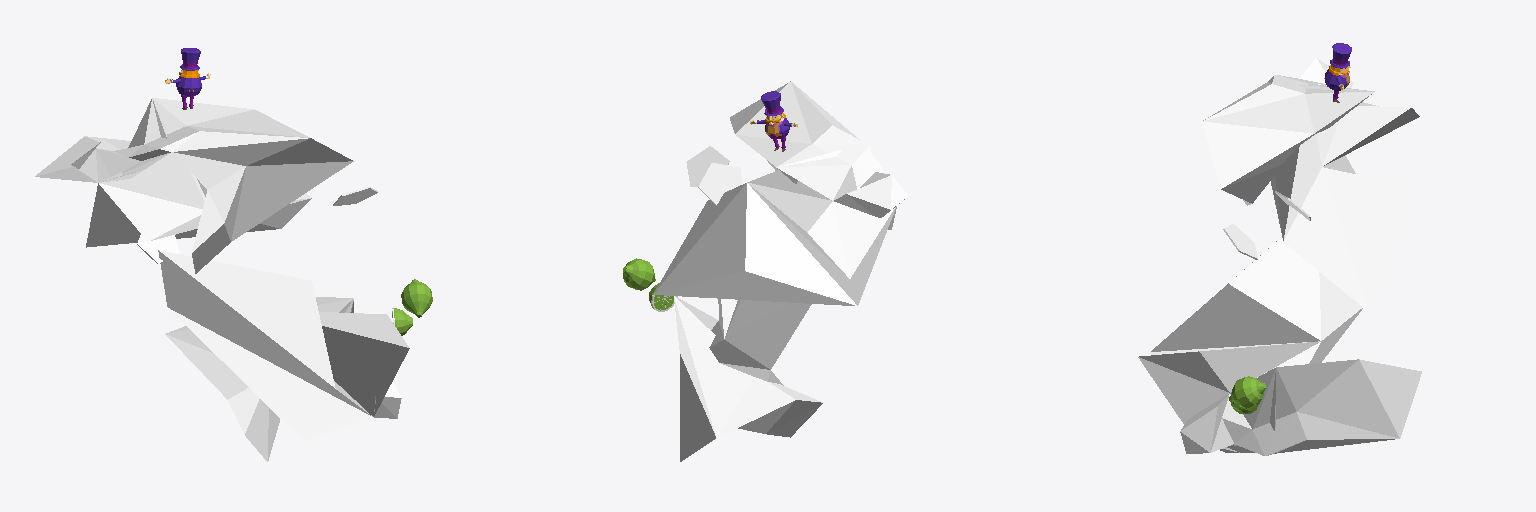
The model's file is model-triangulated.obj.
The picture shows the model from 3 angles: view 1: azimuth 30°, elevation 25°; view 2: azimuth 150°, elevation 25°; view 3: azimuth 270°, elevation 25°; orthographic projection.
Visible parts, largest first — view 1: group[number redacted], group[number redacted], group[number redacted], group[number redacted], group[number redacted]; view 2: group[number redacted], group[number redacted], group[number redacted], group[number redacted], group[number redacted], group[number redacted]; view 3: group[number redacted], group[number redacted], group[number redacted], group[number redacted], group[number redacted].
Boxes of the visible parts, <box> form: group[number redacted]: <box>158,250,409,461</box>; group[number redacted]: <box>35,98,353,273</box>; group[number redacted]: <box>392,279,432,335</box>; group[number redacted]: <box>165,48,210,109</box>; group[number redacted]: <box>137,234,179,263</box>; group[number redacted]: <box>653,81,907,305</box>; group[number redacted]: <box>674,296,822,461</box>; group[number redacted]: <box>623,258,677,311</box>; group[number redacted]: <box>698,163,742,205</box>; group[number redacted]: <box>750,91,797,151</box>; group[number redacted]: <box>686,146,729,186</box>; group[number redacted]: <box>1138,237,1421,455</box>; group[number redacted]: <box>1202,58,1419,312</box>; group[number redacted]: <box>1229,376,1265,413</box>; group[number redacted]: <box>1324,43,1351,102</box>; group[number redacted]: <box>1223,224,1257,259</box>.
Size of the model in its own units: 1.11 by 1.29 by 0.8616.